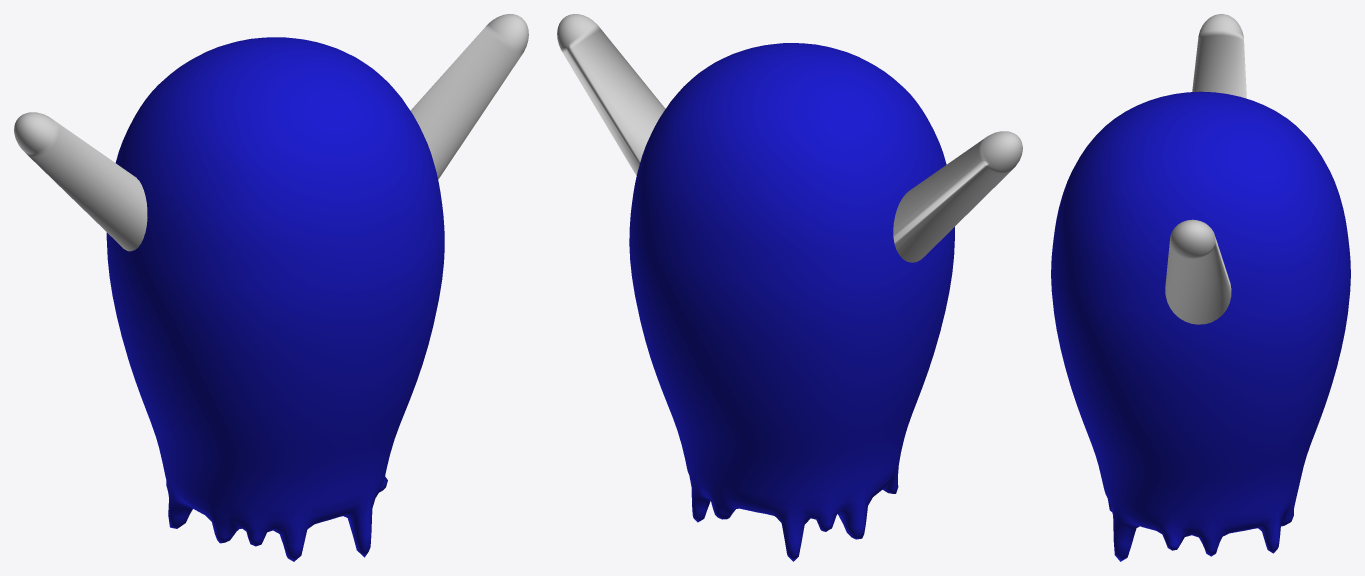
Rendered from beforeThrow_000023.obj.
3 views of the same model, side by side, from view 1: azimuth 30°, elevation 25°; view 2: azimuth 150°, elevation 25°; view 3: azimuth 270°, elevation 25° (orthographic). The views are drawn at different scales.
Visible parts, largest first — view 1: Cube, Sphere.001, Sphere; view 2: Cube, Sphere.001, Sphere; view 3: Cube, Sphere, Sphere.001.
Boxes of the visible parts, x1=… form: Cube: x1=106, y1=37, x2=444, y2=561; Sphere.001: x1=14, y1=112, x2=147, y2=251; Sphere: x1=410, y1=14, x2=528, y2=179; Cube: x1=629, y1=43, x2=954, y2=561; Sphere.001: x1=893, y1=131, x2=1022, y2=262; Sphere: x1=557, y1=14, x2=665, y2=175; Cube: x1=1051, y1=91, x2=1350, y2=561; Sphere: x1=1165, y1=219, x2=1231, y2=324; Sphere.001: x1=1192, y1=14, x2=1246, y2=98.
Bounding box in the file's own units: 0.4901 × 0.4582 × 0.2859.
